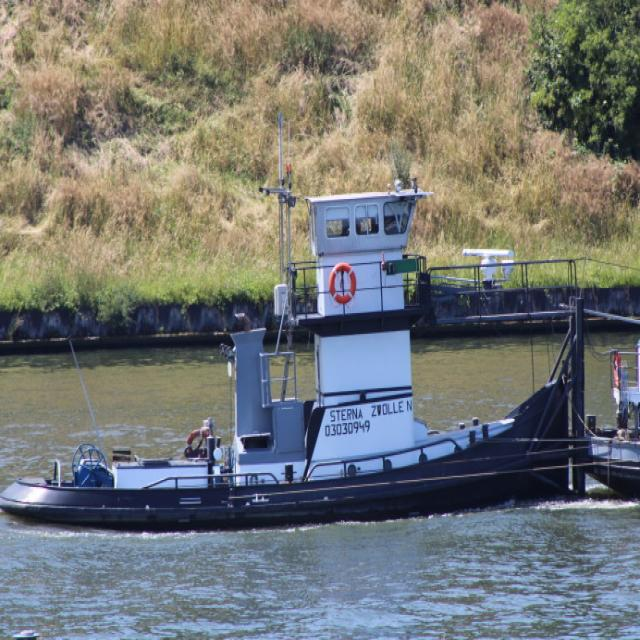tugboat: (1, 103, 604, 549)
